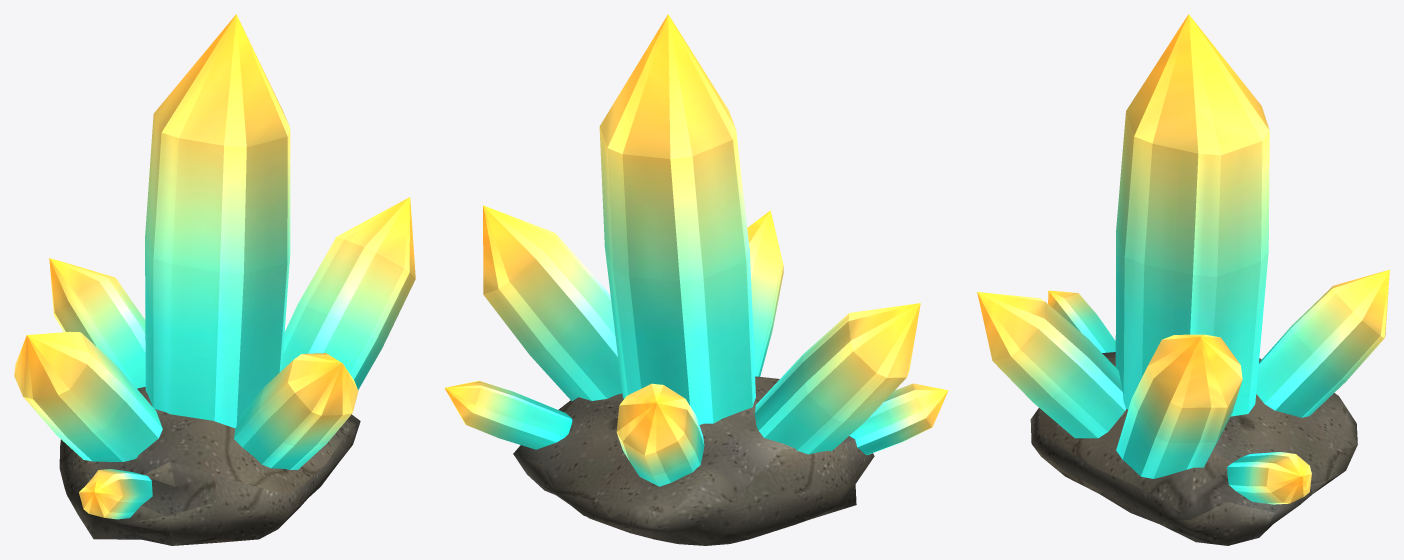
The model's file is star_gem.glb.
3 views of the same model, side by side, from view 1: azimuth 30°, elevation 25°; view 2: azimuth 150°, elevation 25°; view 3: azimuth 270°, elevation 25° (orthographic).
Parts seen in each view (by area): view 1: StarGemMesh; view 2: StarGemMesh; view 3: StarGemMesh.
Boxes of the visible parts, box(x1,y1,x2,y2) form: StarGemMesh: box(14, 14, 415, 545); StarGemMesh: box(444, 14, 948, 545); StarGemMesh: box(977, 14, 1389, 545).
Size of the model in its own units: 0.2308 by 0.2571 by 0.1981.
2 materials, 1 textured.
